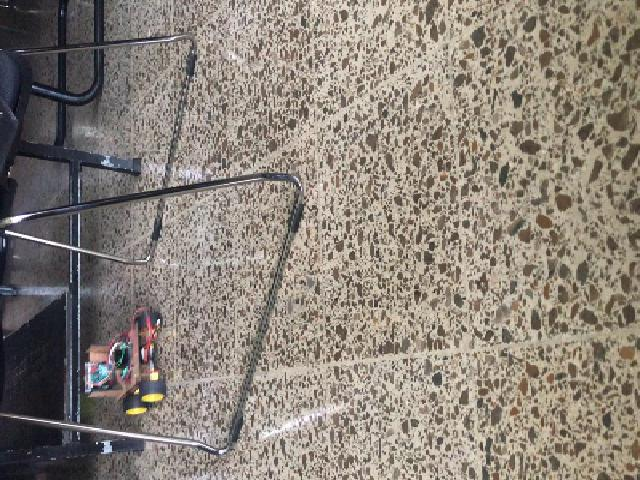Robot: (85, 312, 162, 414)
